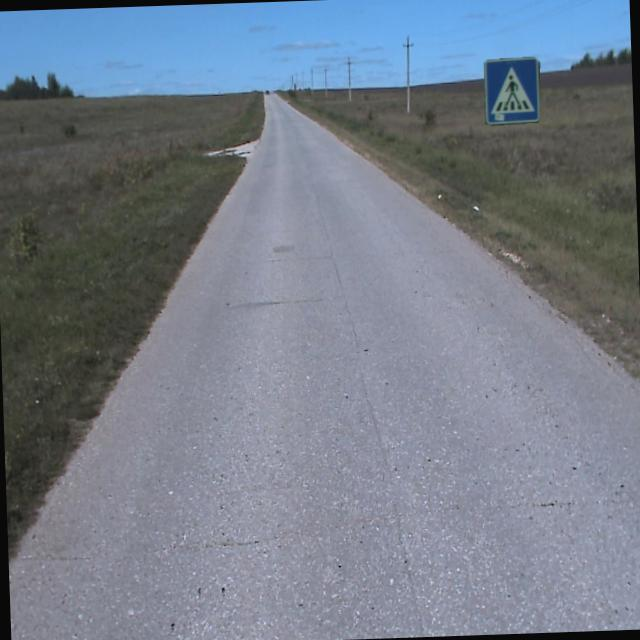road: (8, 91, 640, 640)
